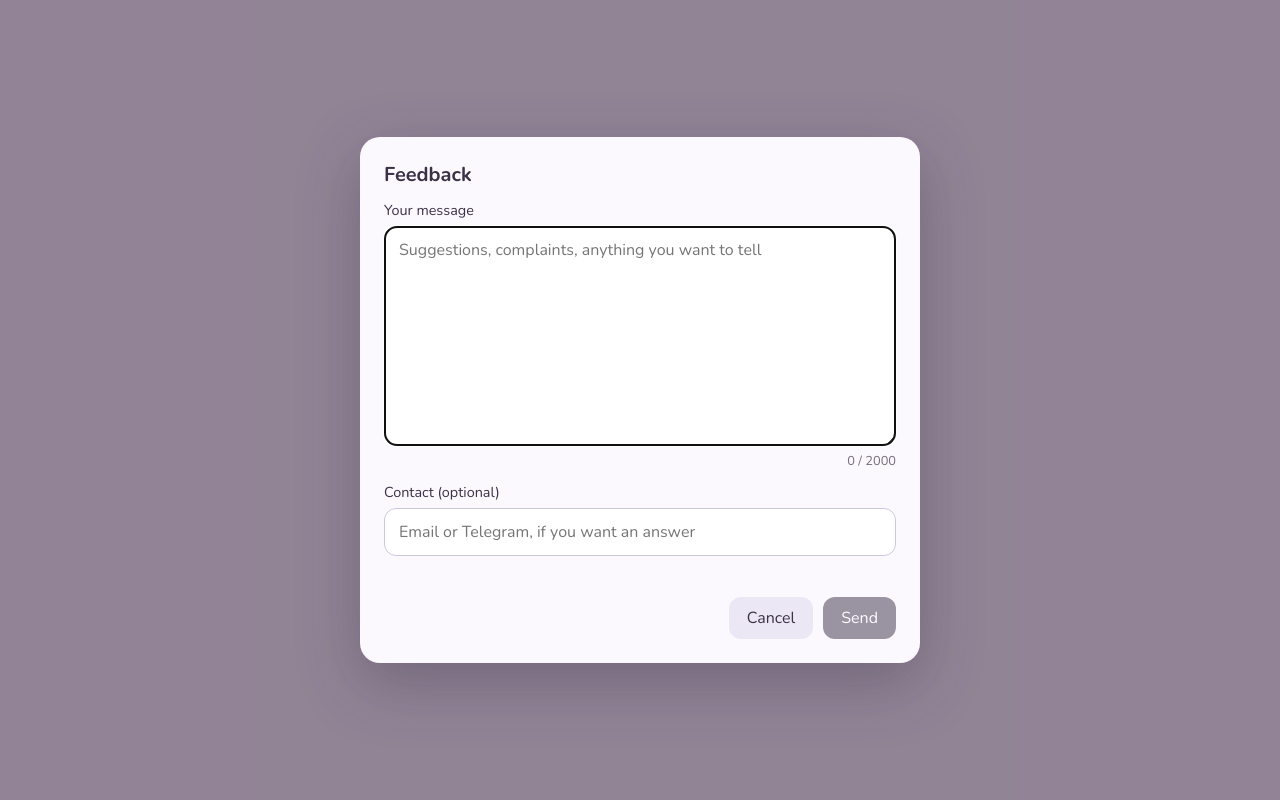
Test: FeedbackDialog › asks the user to wait when the Worker answers 429
In the text box labelled "Your message": (640, 336) [384,226,896,446], type "hello"
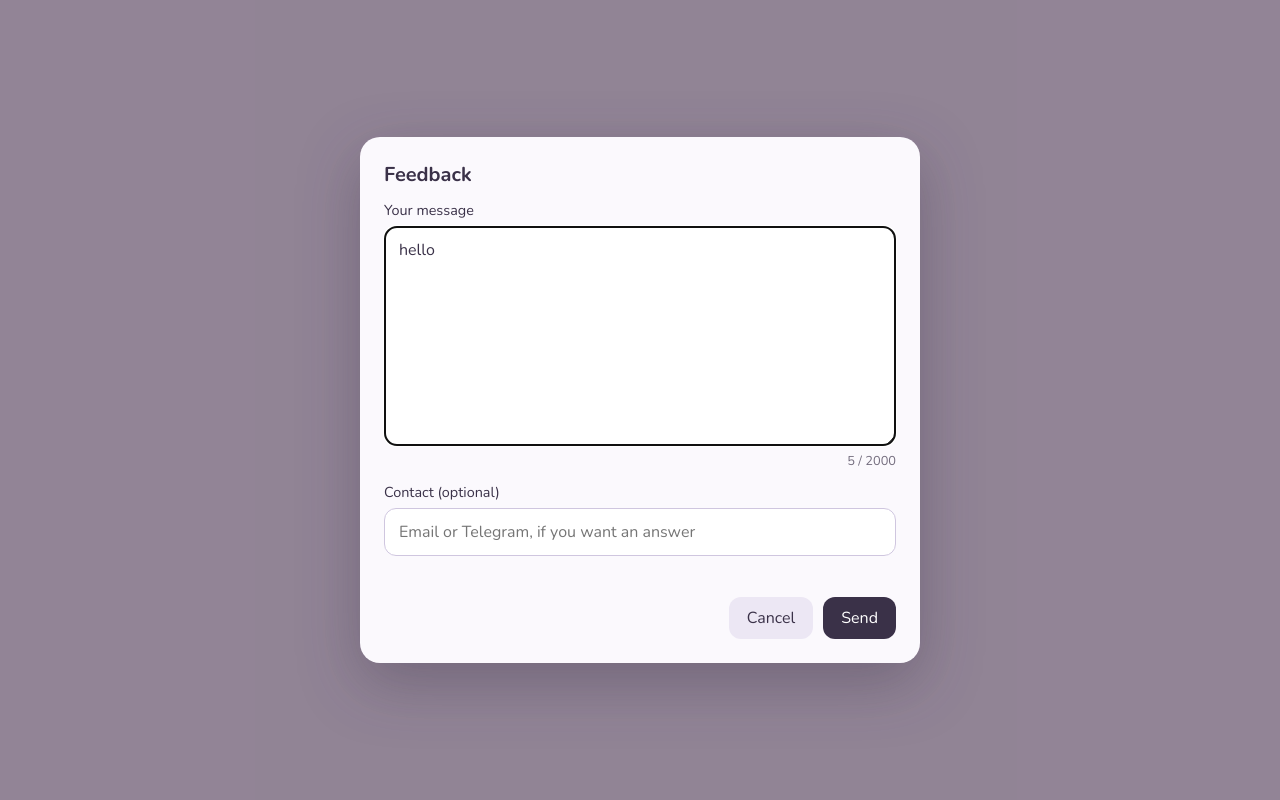
Click the button "Send": click(860, 618) [823,597,896,639]
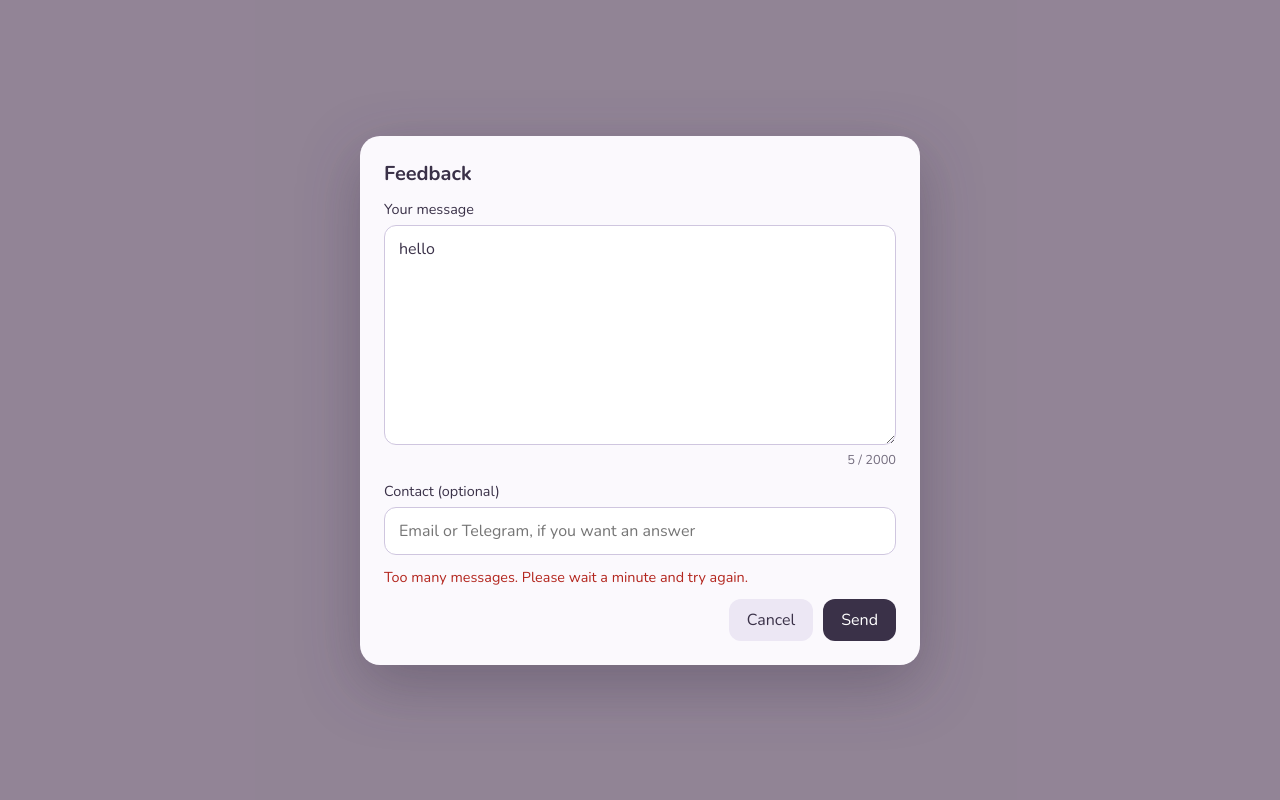
Result: the message shows "Too many messages" at [384,566,748,586]
